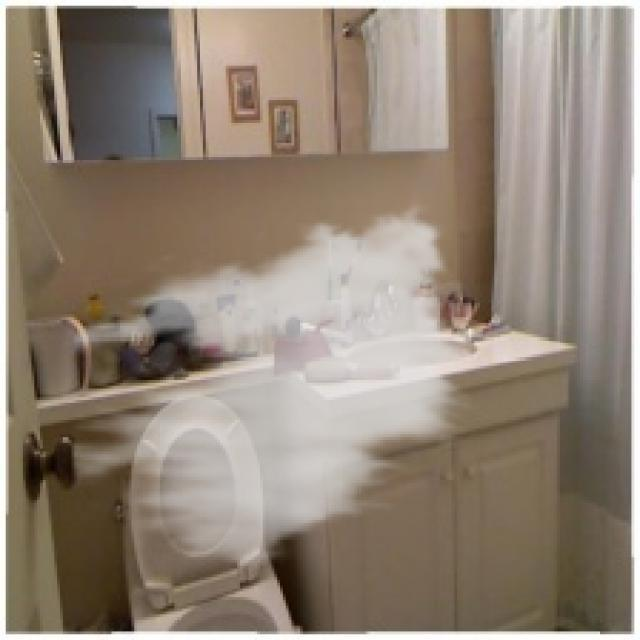Smoke: (72, 195, 477, 580)
